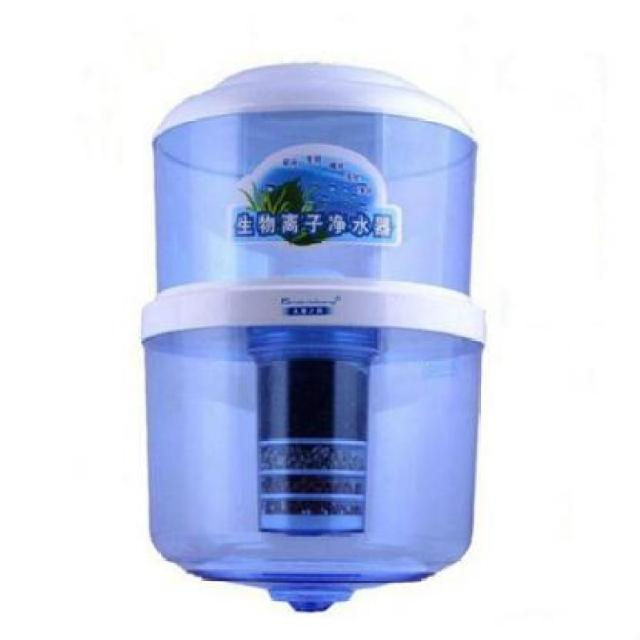coolerbottle: (131, 57, 489, 614)
